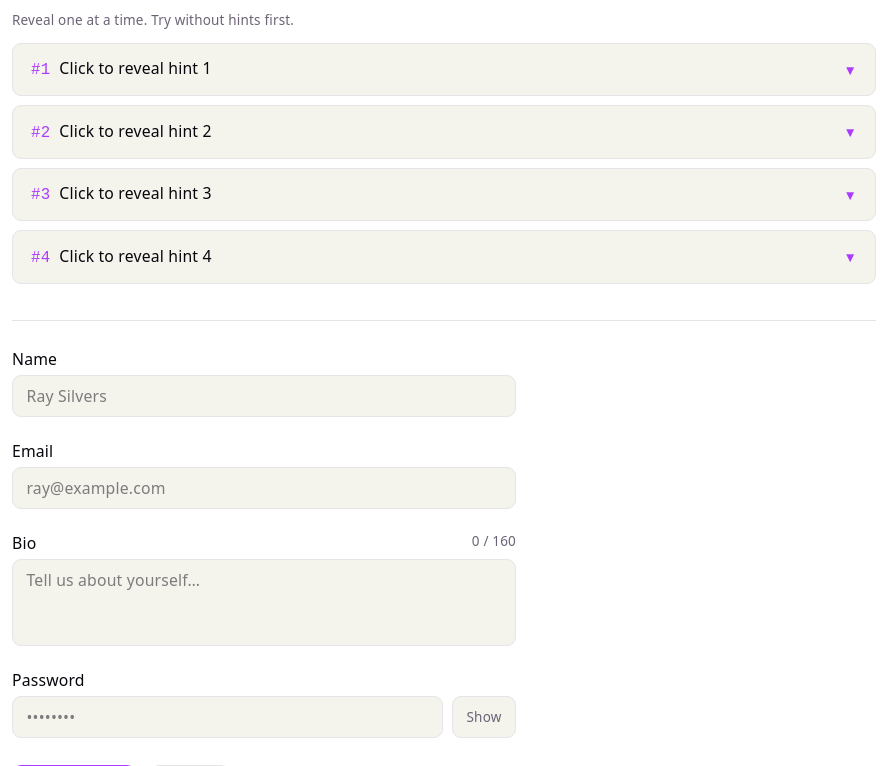
Test: ProfileEditor › bio character counter reflects current length
The image size is (893, 766).
(page scrolled)
Type "Hello!" into the text box with placeholder "Tell us about yourself…" at (264,603), box [12, 559, 516, 646]
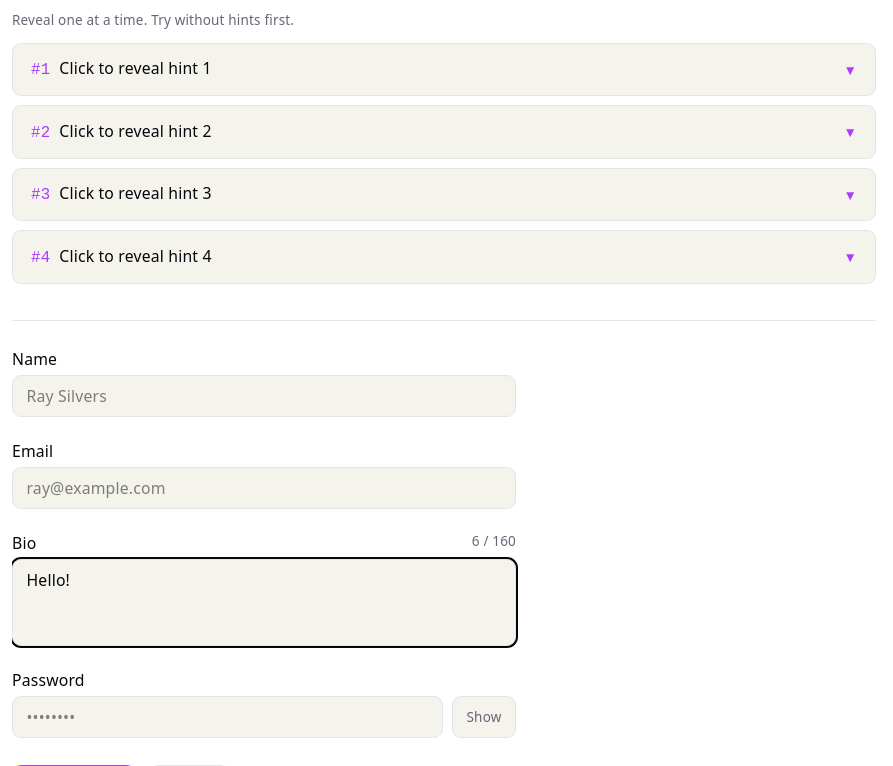
Expected: the text "6 / 160" is shown, [472, 532, 516, 554]
